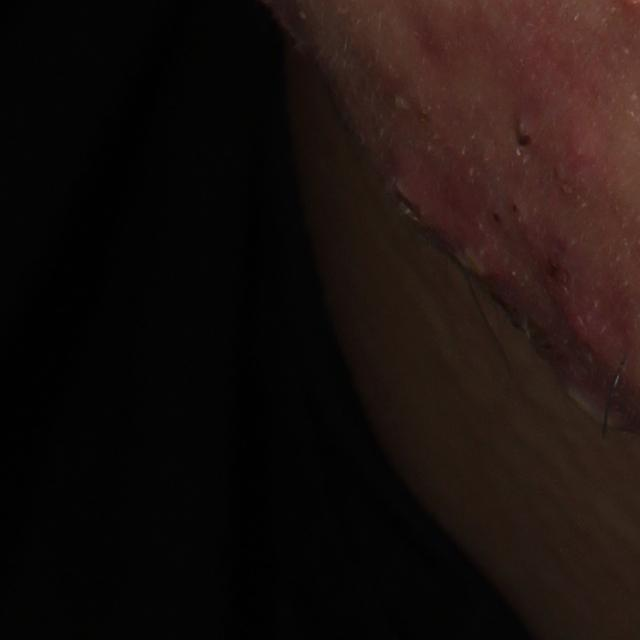comedo: (514, 122, 542, 149)
nodule: (386, 143, 515, 298)
